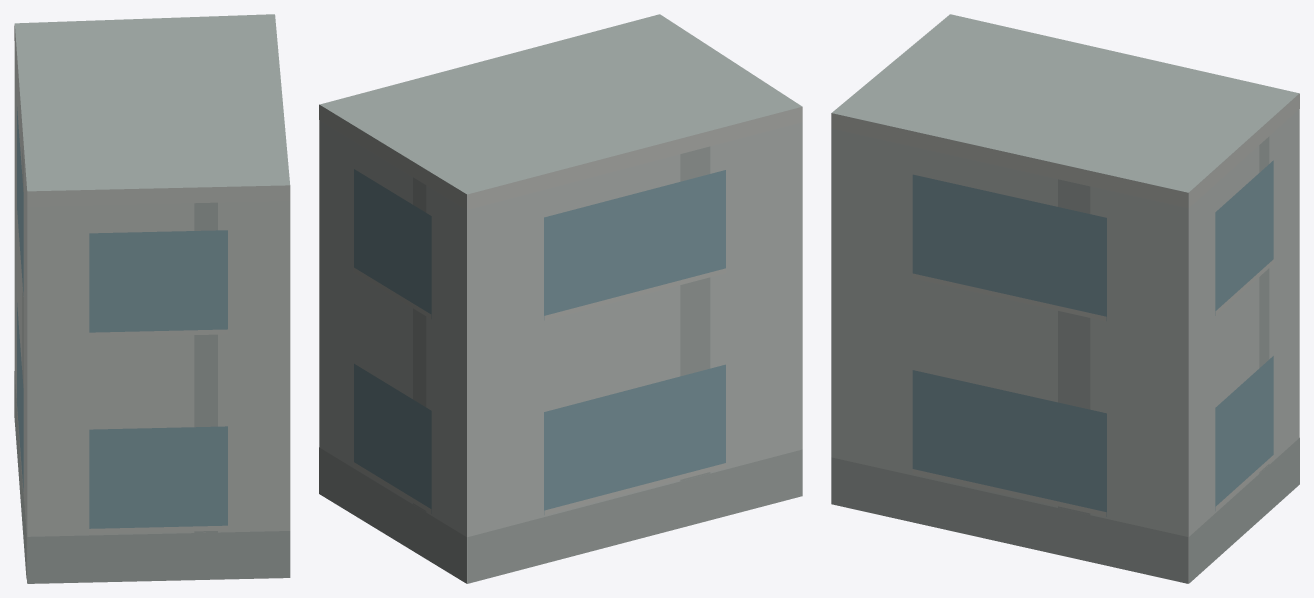
File: survey-upis-33008266.glb
3 views of the same model, side by side, from view 1: azimuth 30°, elevation 25°; view 2: azimuth 150°, elevation 25°; view 3: azimuth 270°, elevation 25° (orthographic).
Visible parts, largest first — view 1: survey-upis-33008266.tmp; view 2: survey-upis-33008266.tmp; view 3: survey-upis-33008266.tmp.
Part boxes in pixels (left/top/right/bottom): survey-upis-33008266.tmp: left=14, top=14, right=290, bottom=583; survey-upis-33008266.tmp: left=319, top=14, right=802, bottom=583; survey-upis-33008266.tmp: left=831, top=14, right=1299, bottom=583.
Bounding box in the file's own units: 5.99 × 6.1 × 6.63.
